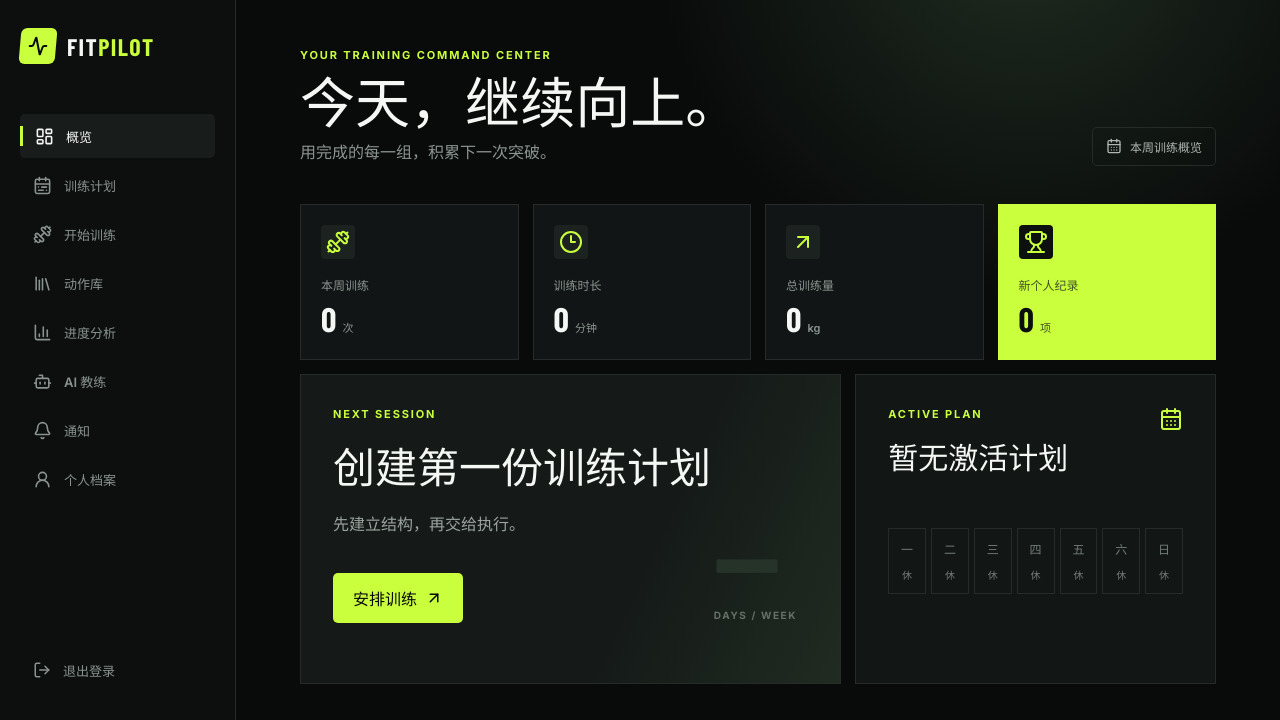
it: App routing › renders authenticated routes and reacts to shell navigation
The image size is (1280, 720).
Expected: the heading "今天，继续向上。" is shown, [300,75,740,127]
Click the link "动作库" at (68, 283), box [33,274,103,292]
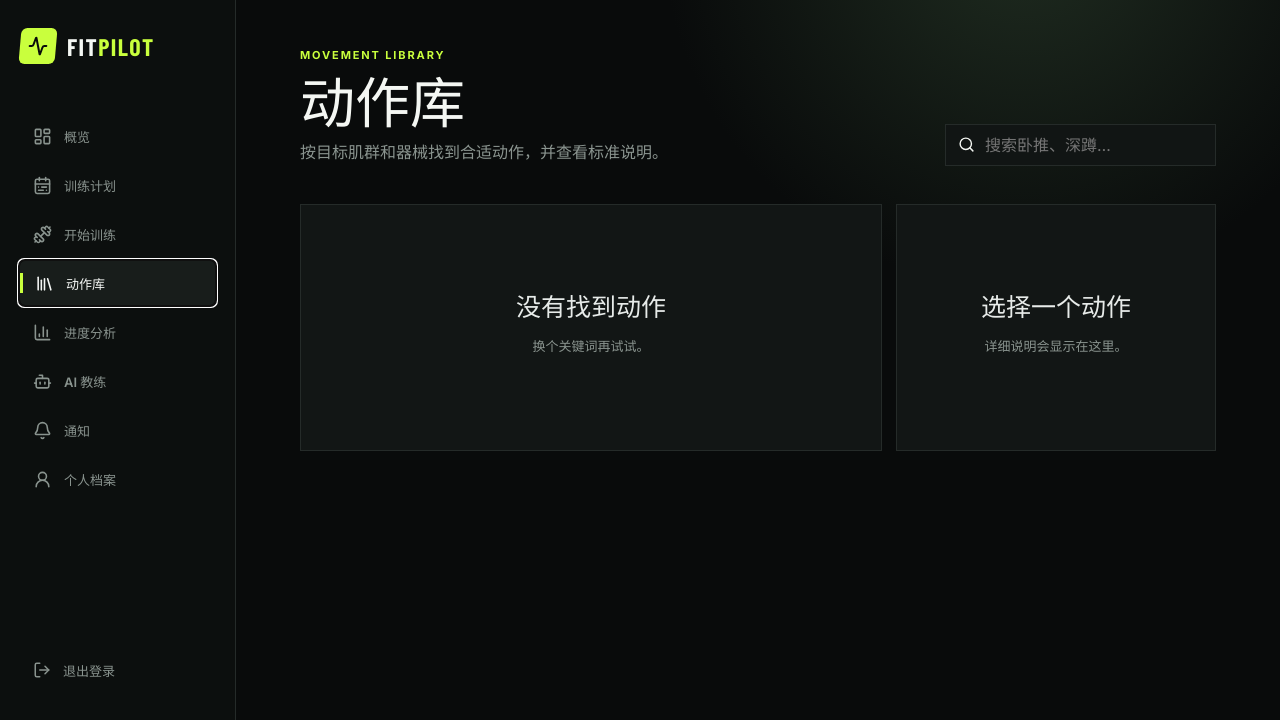
Now the heading "动作库" is shown, box [300,68,465,134]
Now the text "没有找到动作" is shown, box [516,291,666,321]
Click the link "通知" at (62, 430), box [33,420,90,440]
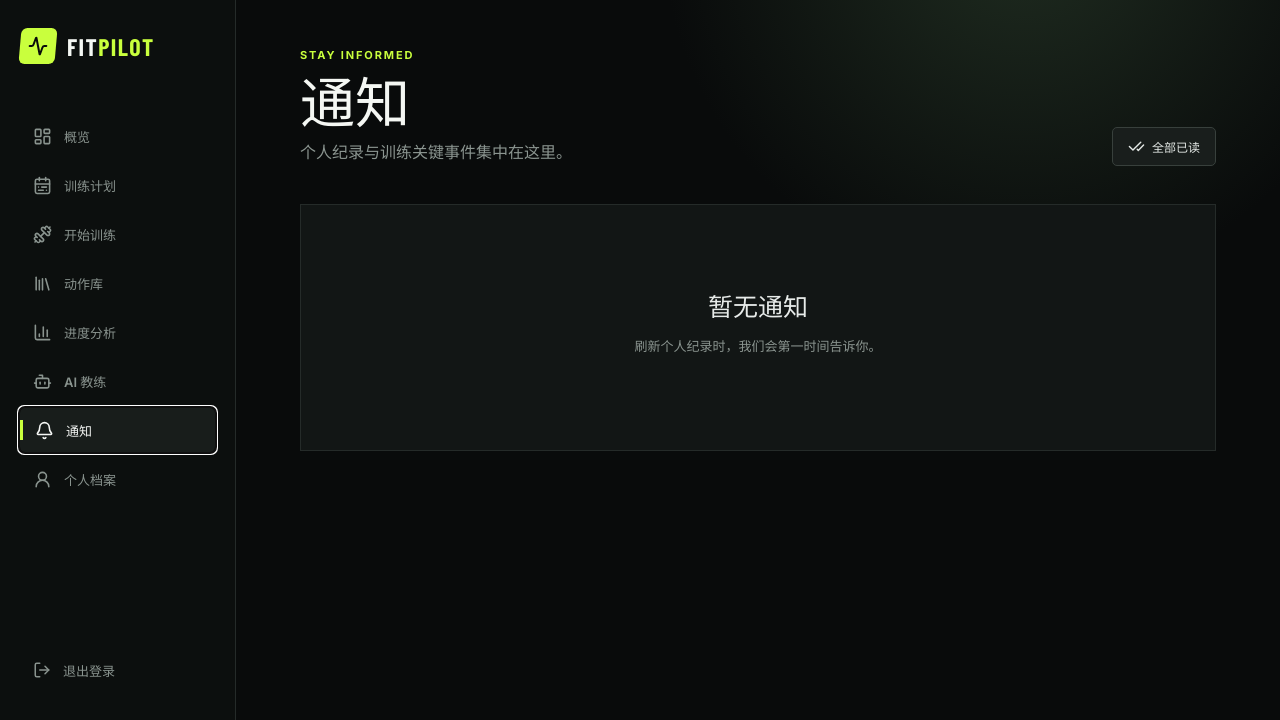
Now the heading "通知" is shown, box [300,68,410,134]
